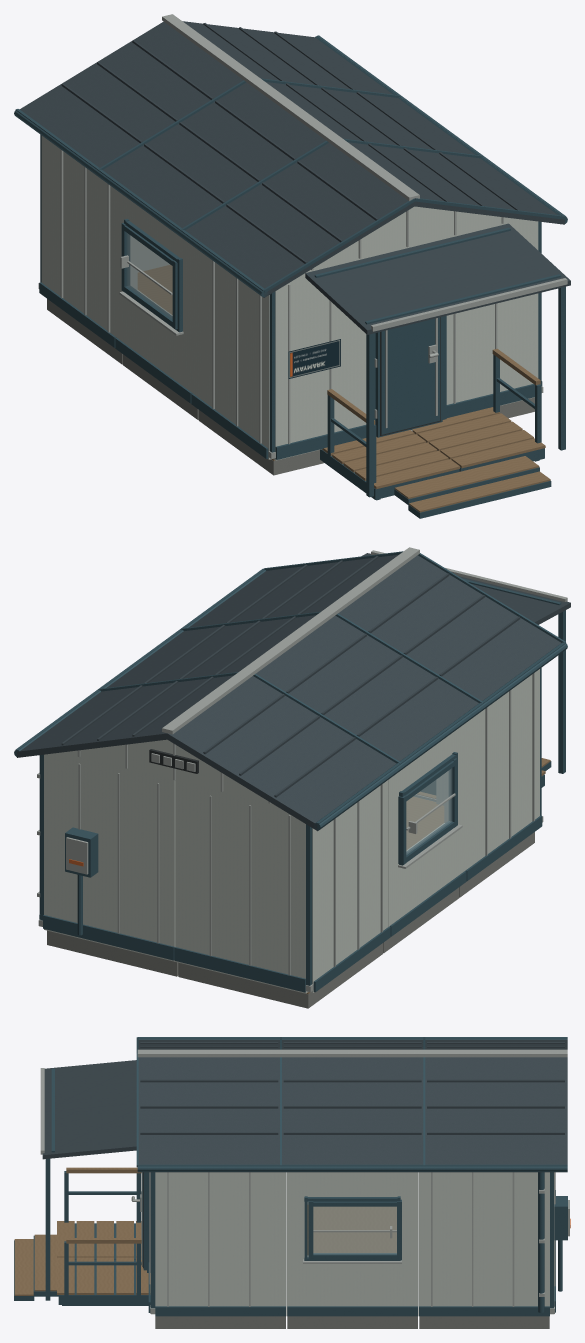
Rendered from PZ_Small_Prefab_Shelter.glb.
3 renders of one model, top to bottom at view 1: azimuth 30°, elevation 25°; view 2: azimuth 150°, elevation 25°; view 3: azimuth 270°, elevation 25°, orthographic. The views are drawn at different scales.
Visible parts, largest first — view 1: RENDER__Roof_LEFT_Module_01_SLIDE_REMOVABLE__MetalRoofCasset (×2), RENDER__Roof_LEFT_Module_03_SLIDE_REMOVABLE__MetalRoofCasset (×2), RENDER__Roof_LEFT_Module_02_SLIDE_REMOVABLE__MetalRoofCasset (×2), RENDER__FrontWall_L_SNAP__InsulatedWall__ExteriorFiberCement, RENDER__LEFT_Wall_Bay_03_SNAP_2M__SandwichPanel__ExteriorFib, RENDER__LEFT_Wall_Bay_01_SNAP_2M__SandwichPanel__ExteriorFib, RENDER__FrontWall_R_SNAP__InsulatedWall__ExteriorFiberCement, RENDER__Roof_RIGHT_Module_01_SLIDE_REMOVABLE__MetalRoofCasse (×2), RENDER__10_PORCH_AWNING_REMOVABLE__AwningSheet_-1__CharcoalR, RENDER__10_PORCH_AWNING_REMOVABLE__AwningSheet_1__CharcoalRo, RENDER__Roof_RIGHT_Module_03_SLIDE_REMOVABLE__MetalRoofCasse, RENDER__07_MAIN_DOOR_ROTATE_Z_HINGE__DoorInnerSheet__Powderc (+45 smaller); view 2: RENDER__RearWall_Module_1_SNAP_2M__InsulatedShell__ExteriorF, RENDER__RearWall_Module_2_SNAP_2M__InsulatedShell__ExteriorF, RENDER__Roof_LEFT_Module_03_SLIDE_REMOVABLE__MetalRoofCasset (×2), RENDER__Roof_LEFT_Module_02_SLIDE_REMOVABLE__MetalRoofCasset (×2), RENDER__Roof_LEFT_Module_01_SLIDE_REMOVABLE__MetalRoofCasset (×2), RENDER__LEFT_Wall_Bay_03_SNAP_2M__SandwichPanel__ExteriorFib, RENDER__LEFT_Wall_Bay_01_SNAP_2M__SandwichPanel__ExteriorFib, RENDER__Roof_RIGHT_Module_03_SLIDE_REMOVABLE__MetalRoofCasse, RENDER__Roof_RIGHT_Module_01_SLIDE_REMOVABLE__MetalRoofCasse, RENDER__Roof_RIGHT_Module_02_SLIDE_REMOVABLE__MetalRoofCasse, RENDER__05_FRONT_REAR_GABLE_MODULES__REAR_TriangularGable__E, RENDER__FloorModule_X1_Y3_SNAP_2x2M__StructuralFloorCassette (+27 smaller); view 3: RENDER__RIGHT_Wall_Bay_01_SNAP_2M__SandwichPanel__ExteriorFi, RENDER__RIGHT_Wall_Bay_03_SNAP_2M__SandwichPanel__ExteriorFi, RENDER__Roof_RIGHT_Module_03_SLIDE_REMOVABLE__MetalRoofCasse (×2), RENDER__Roof_RIGHT_Module_01_SLIDE_REMOVABLE__MetalRoofCasse (×2), RENDER__Roof_RIGHT_Module_02_SLIDE_REMOVABLE__MetalRoofCasse (×2), RENDER__10_PORCH_AWNING_REMOVABLE__AwningSheet_1__CharcoalRo, RENDER__08_WINDOW_RIGHT_ROTATE_Z_HINGE__GlazingSingleClearPa, RENDER__10_PORCH_AWNING_REMOVABLE__AwningSheet_-1__CharcoalR, RENDER__FloorModule_X1_Y2_SNAP_2x2M__CleanInteriorFloorSkin_, RENDER__RIGHT_Wall_Bay_02_SNAP_2M__WindowSillPanel__Exterior, RENDER__RIGHT_Wall_Bay_02_SNAP_2M__FrontJamb__ExteriorFiberC, RENDER__RIGHT_Wall_Bay_02_SNAP_2M__RearJamb__ExteriorFiberCe (+48 smaller).
Boxes of the visible parts, x1,y1,x2,y2 form: RENDER__Roof_LEFT_Module_01_SLIDE_REMOVABLE__MetalRoofCasset (×2): [185, 143, 414, 297]; RENDER__Roof_LEFT_Module_03_SLIDE_REMOVABLE__MetalRoofCasset (×2): [20, 21, 246, 169]; RENDER__Roof_LEFT_Module_02_SLIDE_REMOVABLE__MetalRoofCasset (×2): [103, 82, 328, 230]; RENDER__FrontWall_L_SNAP__InsulatedWall__ExteriorFiberCement: [273, 255, 372, 460]; RENDER__LEFT_Wall_Bay_03_SNAP_2M__SandwichPanel__ExteriorFib: [41, 135, 117, 337]; RENDER__LEFT_Wall_Bay_01_SNAP_2M__SandwichPanel__ExteriorFib: [193, 246, 271, 459]; RENDER__FrontWall_R_SNAP__InsulatedWall__ExteriorFiberCement: [441, 219, 538, 405]; RENDER__Roof_RIGHT_Module_01_SLIDE_REMOVABLE__MetalRoofCasse (×2): [348, 142, 565, 224]; RENDER__10_PORCH_AWNING_REMOVABLE__AwningSheet_-1__CharcoalR: [305, 248, 469, 334]; RENDER__10_PORCH_AWNING_REMOVABLE__AwningSheet_1__CharcoalRo: [407, 223, 570, 309]; RENDER__Roof_RIGHT_Module_03_SLIDE_REMOVABLE__MetalRoofCasse: [182, 21, 392, 94]; RENDER__07_MAIN_DOOR_ROTATE_Z_HINGE__DoorInnerSheet__Powderc: [381, 317, 440, 434]; RENDER__RearWall_Module_1_SNAP_2M__InsulatedShell__ExteriorF: [175, 780, 307, 993]; RENDER__RearWall_Module_2_SNAP_2M__InsulatedShell__ExteriorF: [44, 752, 175, 961]; RENDER__Roof_LEFT_Module_03_SLIDE_REMOVABLE__MetalRoofCasset (×2): [167, 674, 400, 831]; RENDER__Roof_LEFT_Module_02_SLIDE_REMOVABLE__MetalRoofCasset (×2): [256, 613, 483, 761]; RENDER__Roof_LEFT_Module_01_SLIDE_REMOVABLE__MetalRoofCasset (×2): [338, 553, 565, 700]; RENDER__LEFT_Wall_Bay_03_SNAP_2M__SandwichPanel__ExteriorFib: [311, 780, 388, 992]; RENDER__LEFT_Wall_Bay_01_SNAP_2M__SandwichPanel__ExteriorFib: [464, 669, 539, 870]; RENDER__Roof_RIGHT_Module_03_SLIDE_REMOVABLE__MetalRoofCasse: [17, 675, 233, 757]; RENDER__Roof_RIGHT_Module_01_SLIDE_REMOVABLE__MetalRoofCasse: [189, 554, 398, 627]; RENDER__Roof_RIGHT_Module_02_SLIDE_REMOVABLE__MetalRoofCasse: [107, 615, 316, 687]; RENDER__05_FRONT_REAR_GABLE_MODULES__REAR_TriangularGable__E: [62, 739, 272, 803]; RENDER__FloorModule_X1_Y3_SNAP_2x2M__StructuralFloorCassette: [178, 943, 383, 1008]; RENDER__RIGHT_Wall_Bay_01_SNAP_2M__SandwichPanel__ExteriorFi: [155, 1172, 286, 1315]; RENDER__RIGHT_Wall_Bay_03_SNAP_2M__SandwichPanel__ExteriorFi: [419, 1172, 549, 1306]; RENDER__Roof_RIGHT_Module_03_SLIDE_REMOVABLE__MetalRoofCasse (×2): [424, 1057, 567, 1172]; RENDER__Roof_RIGHT_Module_01_SLIDE_REMOVABLE__MetalRoofCasse (×2): [137, 1057, 280, 1172]; RENDER__Roof_RIGHT_Module_02_SLIDE_REMOVABLE__MetalRoofCasse (×2): [281, 1057, 424, 1172]; RENDER__10_PORCH_AWNING_REMOVABLE__AwningSheet_1__CharcoalRo: [42, 1103, 136, 1159]; RENDER__08_WINDOW_RIGHT_ROTATE_Z_HINGE__GlazingSingleClearPa: [313, 1206, 396, 1254]; RENDER__10_PORCH_AWNING_REMOVABLE__AwningSheet_-1__CharcoalR: [44, 1060, 136, 1111]; RENDER__FloorModule_X1_Y2_SNAP_2x2M__CleanInteriorFloorSkin_: [307, 1205, 396, 1254]; RENDER__RIGHT_Wall_Bay_02_SNAP_2M__WindowSillPanel__Exterior: [307, 1255, 397, 1306]; RENDER__RIGHT_Wall_Bay_02_SNAP_2M__FrontJamb__ExteriorFiberC: [286, 1172, 306, 1315]; RENDER__RIGHT_Wall_Bay_02_SNAP_2M__RearJamb__ExteriorFiberCe: [398, 1172, 418, 1316].
Bounding box in the file's own units: 4.67 × 3.71 × 8.45.
11 materials, 9 textured.
